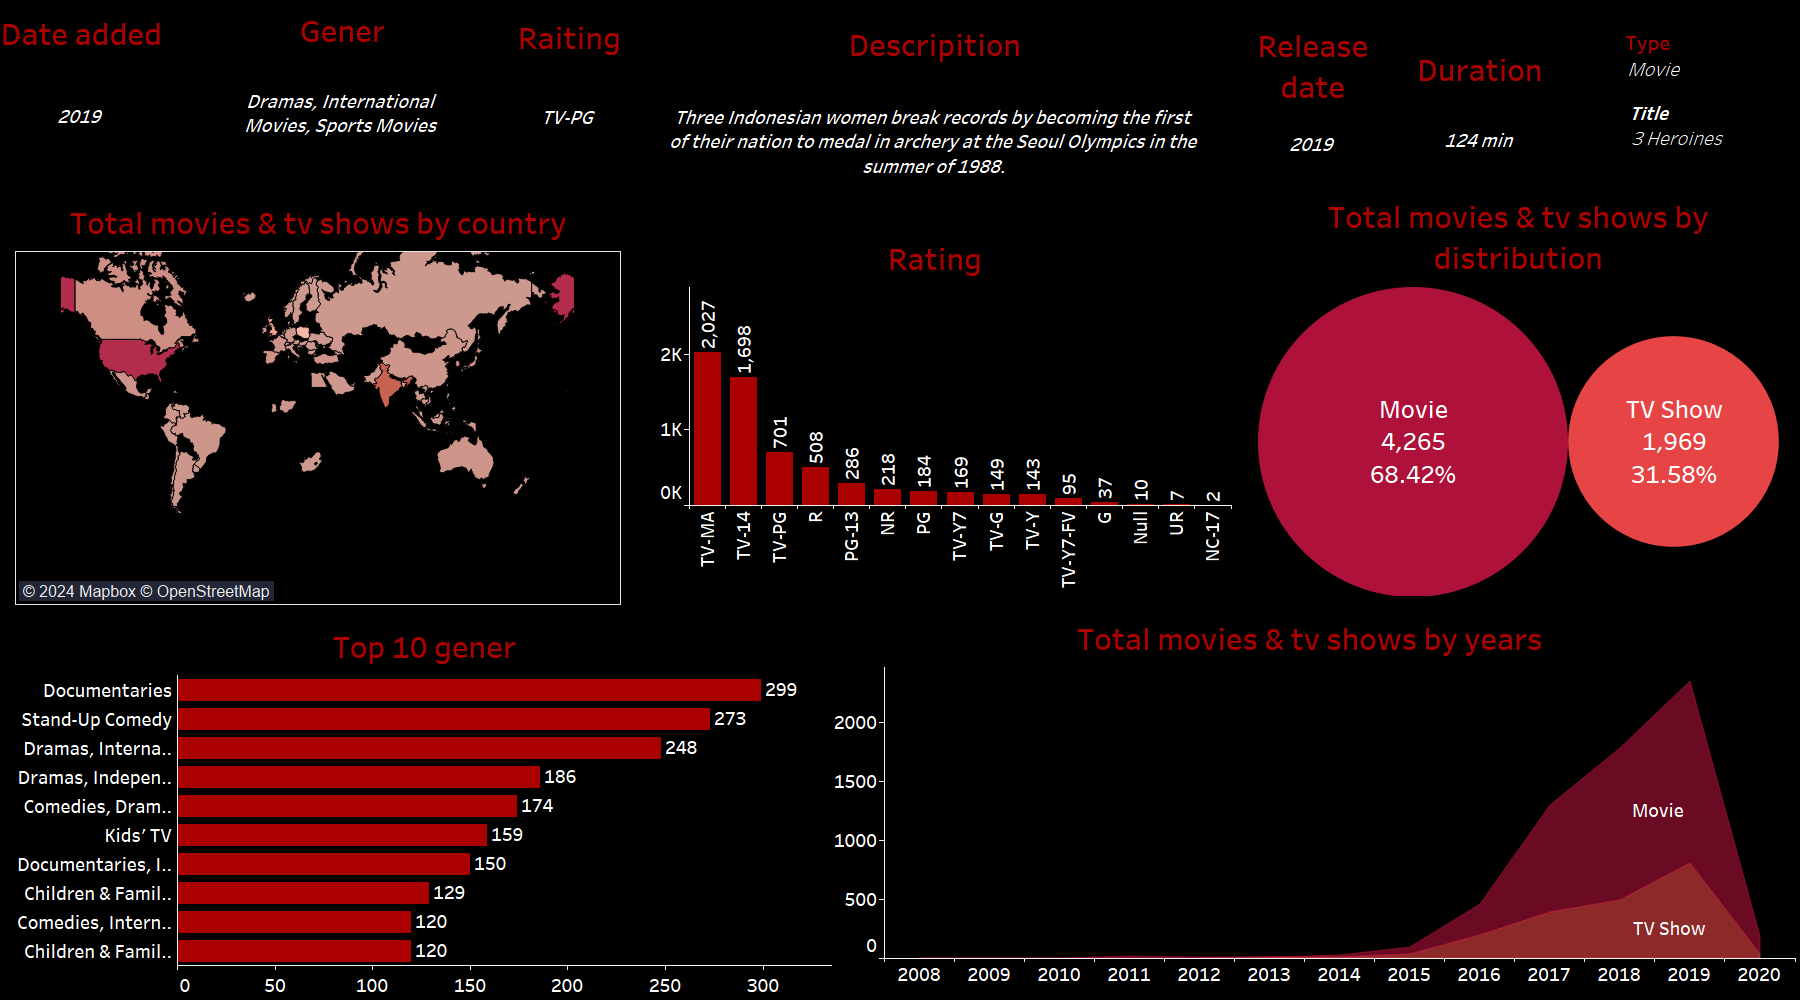

The dashboard page shown, as its layout file describes it:
{"tool":"tableau","page":{"name":"Dashboard 1","canvas":[1800,1000],"ordinal":0},"visuals":[{"type":"worksheet","title":"Gener","mark":"Automatic","box":[229,3,226,165]},{"type":"title","box":[8,8,1784,58]},{"type":"worksheet","title":"Raiting","mark":"Automatic","box":[462,10,214,158]},{"type":"worksheet","title":"Descripition","mark":"Automatic","box":[662,17,545,194]},{"type":"worksheet","title":"Release date","mark":"Automatic","box":[1226,18,173,155]},{"type":"filter","title":"Descripition","param":"[federated.1i8tag61jqj8jc1adgmp40oh66k4].[none:type:nk]","box":[1625,27,160,62]},{"type":"worksheet","title":"Duration","mark":"Automatic","box":[1361,42,237,140]},{"type":"filter","title":"Descripition","param":"[federated.1i8tag61jqj8jc1adgmp40oh66k4].[none:title:nk]","box":[1629,99,160,62]},{"type":"worksheet","title":"Total movies & tv shows by distribution","mark":"Circle","box":[1239,189,558,407]},{"type":"worksheet","title":"Total movies & tv shows by country","mark":"Multipolygon","box":[15,195,606,410]},{"type":"worksheet","title":"Rating","mark":"Automatic","rows":["show_id"],"cols":["rating"],"box":[638,231,593,374]},{"type":"worksheet","title":"Total movies & tv shows by year","mark":"Area","rows":["show_id"],"cols":["date_added"],"box":[824,611,971,376]},{"type":"worksheet","title":"Top 10 gener","mark":"Automatic","rows":["listed_in"],"cols":["show_id"],"box":[17,619,814,378]}]}

Visuals, with their boxes in screenshot pixels (x1, y1, x2, y2), scaled from the page's 1800x1000 canvas onto the 1800x1000 screenshot:
"Gener" worksheet: region(229, 3, 455, 168)
title: region(8, 8, 1792, 66)
"Raiting" worksheet: region(462, 10, 676, 168)
"Descripition" worksheet: region(662, 17, 1207, 211)
"Release date" worksheet: region(1226, 18, 1399, 173)
"Descripition" filter: region(1625, 27, 1785, 89)
"Duration" worksheet: region(1361, 42, 1598, 182)
"Descripition" filter: region(1629, 99, 1789, 161)
"Total movies & tv shows by distribution" worksheet (Circle marks): region(1239, 189, 1797, 596)
"Total movies & tv shows by country" worksheet (Multipolygon marks): region(15, 195, 621, 605)
"Rating" worksheet: region(638, 231, 1231, 605)
"Total movies & tv shows by year" worksheet (Area marks): region(824, 611, 1795, 987)
"Top 10 gener" worksheet: region(17, 619, 831, 997)
